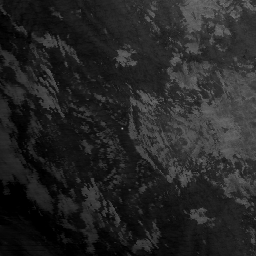Target: (119, 126, 125, 132)
